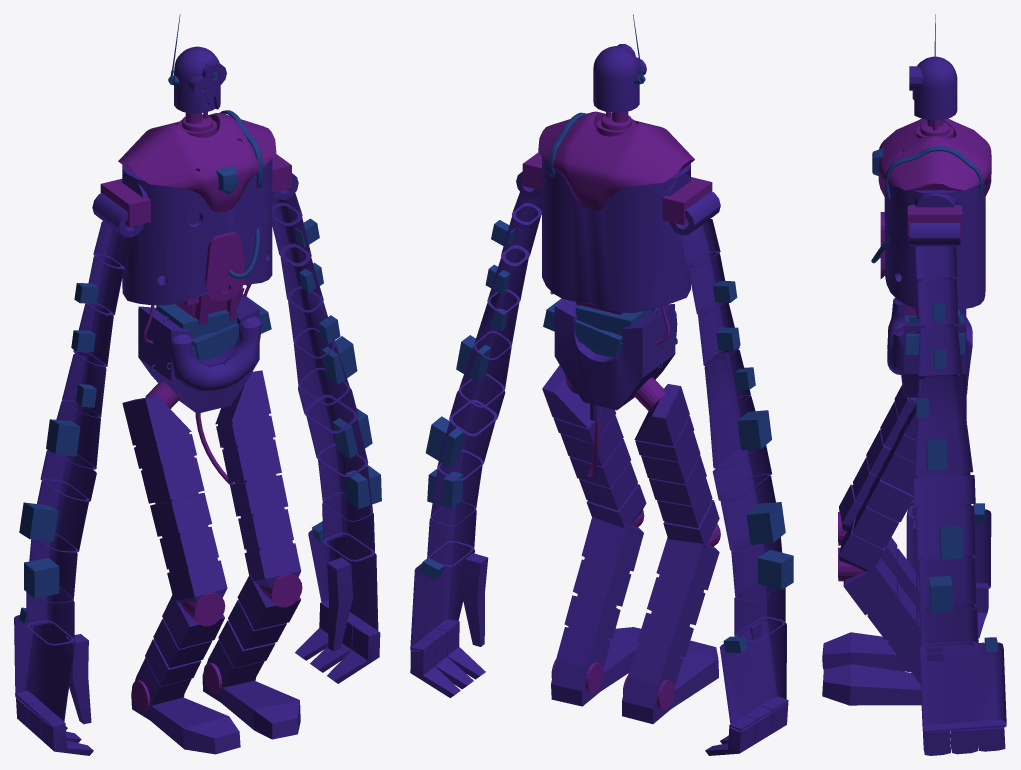
Rendered from robot.fbx.
3 renders of one model, left to right at view 1: azimuth 30°, elevation 25°; view 2: azimuth 150°, elevation 25°; view 3: azimuth 270°, elevation 25°, orthographic. The views are drawn at different scales.
Parts seen in each view (by area): view 1: Cylinder.011, Cube.010, Cube.012, Cylinder, Cylinder.001, Cube.013, Cube.014, Cube.006, Cube.011, Cylinder.013, Cube.001, Sphere (+6 smaller); view 2: Cylinder.011, Cube.010, Cube.012, Cylinder, Cylinder.001, Cube.006, Cube.013, Cube.014, Sphere, Cylinder.013, Cube.008, Cube.004 (+2 smaller); view 3: Cube.012, Cylinder.011, Cylinder, Cylinder.001, Cube.014, Sphere, Cube.010, Cube.006, Cylinder.010, Cube.011, Cube.009, BezierCurve (+2 smaller).
Boxes of the visible parts, left/top/right/bottom form: Cylinder.011: left=122, top=370, right=300, bottom=754; Cube.010: left=14, top=221, right=133, bottom=755; Cube.012: left=272, top=193, right=380, bottom=683; Cylinder: left=122, top=158, right=272, bottom=305; Cylinder.001: left=118, top=112, right=276, bottom=212; Cube.013: left=19, top=283, right=98, bottom=624; Cube.014: left=295, top=218, right=381, bottom=541; Cube.006: left=138, top=296, right=259, bottom=413; Cube.011: left=171, top=317, right=261, bottom=391; Cylinder.013: left=131, top=380, right=302, bottom=711; Cube.001: left=205, top=232, right=245, bottom=301; Sphere: left=174, top=46, right=220, bottom=114; Cylinder.011: left=542, top=365, right=719, bottom=724; Cube.010: left=679, top=219, right=788, bottom=755; Cube.012: left=410, top=192, right=541, bottom=697; Cylinder: left=542, top=157, right=691, bottom=312; Cylinder.001: left=538, top=111, right=694, bottom=210; Cube.006: left=554, top=299, right=675, bottom=410; Cube.013: left=713, top=281, right=793, bottom=652; Cube.014: left=419, top=220, right=515, bottom=580; Sphere: left=593, top=46, right=639, bottom=112; Cylinder.013: left=551, top=375, right=720, bottom=710; Cube.008: left=662, top=177, right=712, bottom=225; Cube.004: left=543, top=298, right=622, bottom=356; Cube.012: left=912, top=246, right=1006, bottom=755; Cylinder.011: left=822, top=385, right=921, bottom=705; Cylinder: left=884, top=182, right=985, bottom=309; Cylinder.001: left=878, top=118, right=991, bottom=196; Cube.014: left=916, top=303, right=997, bottom=652; Sphere: left=912, top=56, right=957, bottom=120; Cube.010: left=906, top=384, right=991, bottom=638; Cube.006: left=887, top=303, right=972, bottom=397; Cylinder.010: left=909, top=223, right=960, bottom=246; Cube.011: left=887, top=298, right=919, bottom=374; Cube.009: left=907, top=205, right=962, bottom=235; BezierCurve: left=885, top=146, right=983, bottom=200.
Size of the model in its own units: 495 by 947 by 236.
